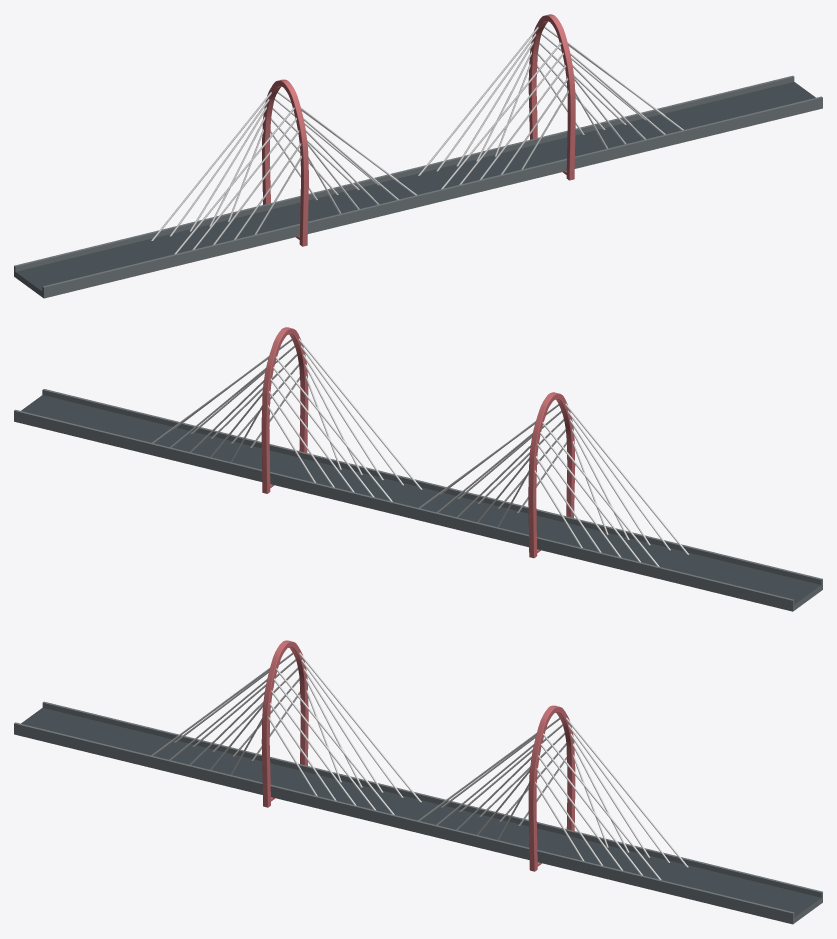
Rendered from bridge5.gltf.
3 views of the same model, one above another, from view 1: azimuth 30°, elevation 25°; view 2: azimuth 150°, elevation 25°; view 3: azimuth 330°, elevation 25° (orthographic).
Parts seen in each view (by area): view 1: bridge5; view 2: bridge5; view 3: bridge5.
Boxes of the visible parts, left/top/right/bottom form: bridge5: left=14, top=14, right=822, bottom=298; bridge5: left=14, top=327, right=822, bottom=611; bridge5: left=14, top=640, right=822, bottom=924.
Size of the model in its own units: 58426 by 10795 by 5472.
